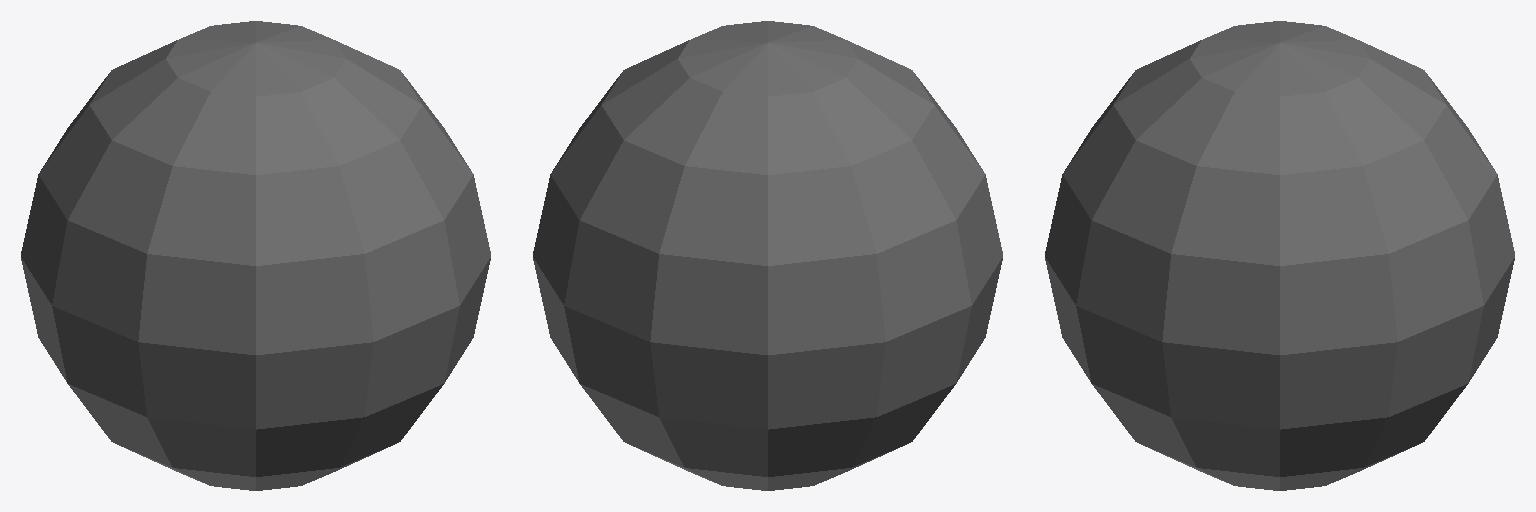
The model's file is glowSphere.obj.
3 views of the same model, side by side, from view 1: azimuth 30°, elevation 25°; view 2: azimuth 150°, elevation 25°; view 3: azimuth 270°, elevation 25° (orthographic).
Visible parts, largest first — view 1: Sphere; view 2: Sphere; view 3: Sphere.
Boxes of the visible parts, x1,y1,x2,y2 form: Sphere: [21, 21, 490, 490]; Sphere: [533, 21, 1002, 490]; Sphere: [1045, 21, 1514, 490].
Bounding box in the file's own units: 2 × 2 × 2.